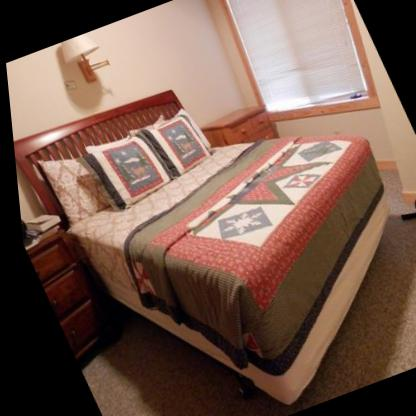Bed: (11, 89, 386, 406)
